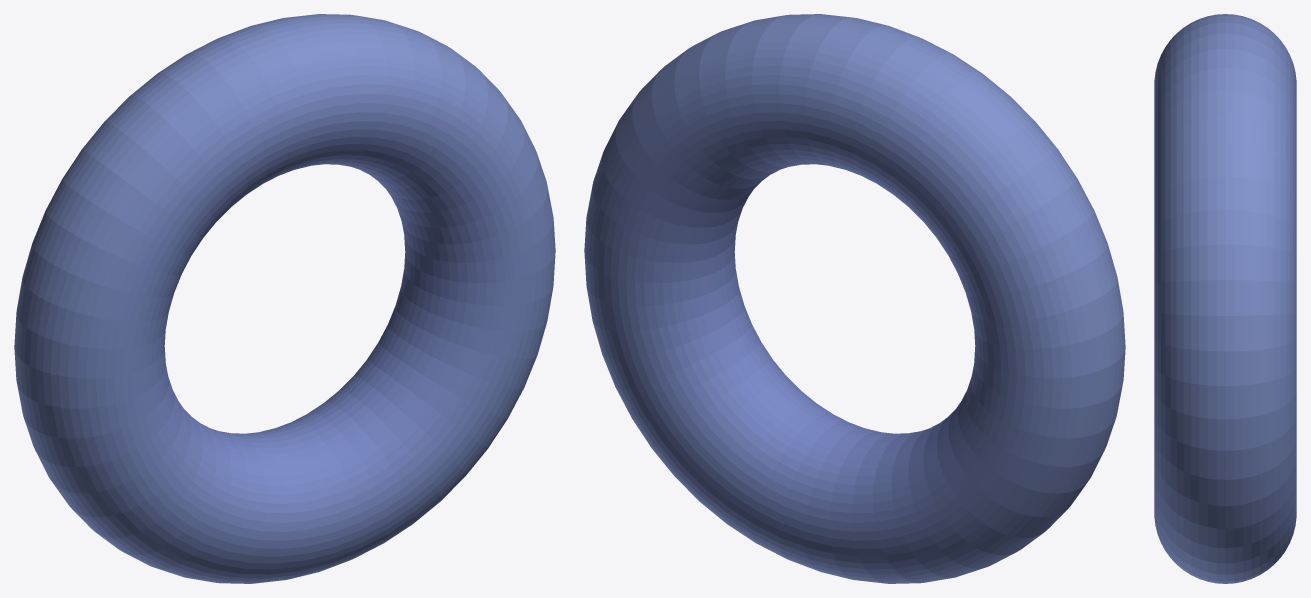
3 renders of one model, left to right at view 1: azimuth 30°, elevation 25°; view 2: azimuth 150°, elevation 25°; view 3: azimuth 270°, elevation 25°, orthographic. The views are drawn at different scales.
Visible parts, largest first — view 1: world; view 2: world; view 3: world.
Boxes of the visible parts, left/top/right/bottom form: world: left=14, top=14, right=555, bottom=583; world: left=584, top=14, right=1125, bottom=583; world: left=1154, top=14, right=1296, bottom=583.
Size of the model in its own units: 18.67 by 18.63 by 4.66.
